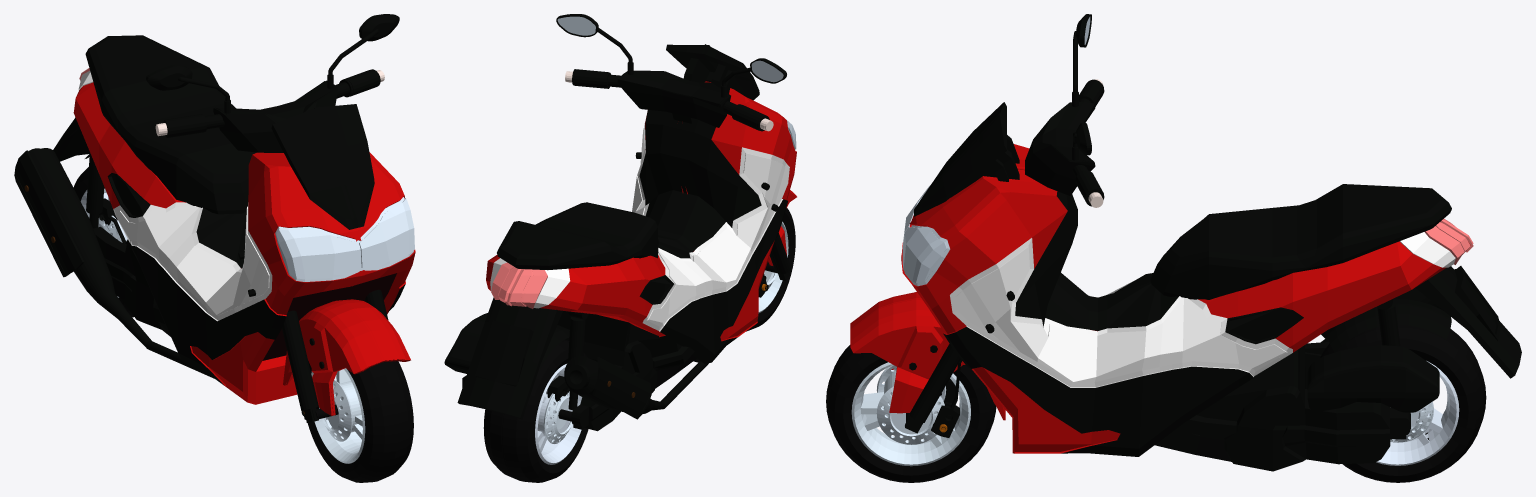
Rendered from yamaha-xmax.glb.
The picture shows the model from 3 angles, left to right: view 1: azimuth 30°, elevation 25°; view 2: azimuth 150°, elevation 25°; view 3: azimuth 270°, elevation 25°; orthographic projection. The views are drawn at different scales.
Parts seen in each view (by area): view 1: Chassis.007_Material_0; view 2: Chassis.007_Material_0; view 3: Chassis.007_Material_0.
Boxes of the visible parts, <box> form: Chassis.007_Material_0: <box>14,14,415,482</box>; Chassis.007_Material_0: <box>444,14,796,482</box>; Chassis.007_Material_0: <box>826,14,1521,482</box>.
Size of the model in its own units: 1.1 by 1.57 by 2.45.
Materials: 1 (1 with a texture image).
